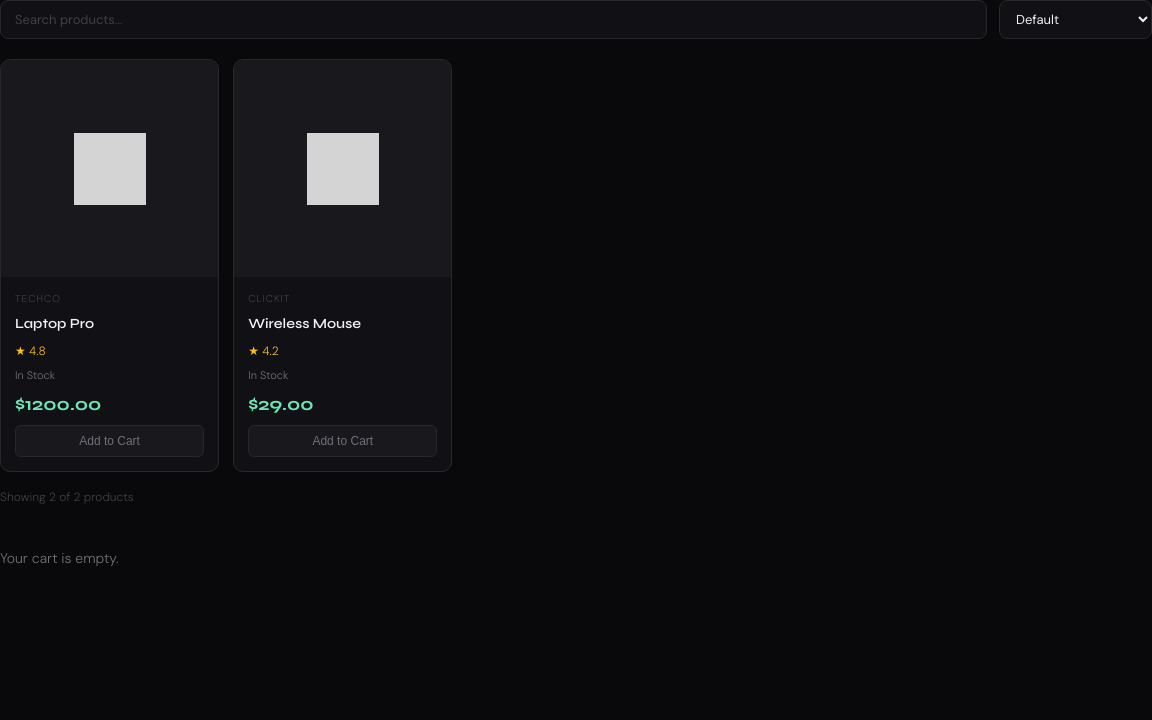
it: Full Shopping Flow — Product → Cart Integration › adding a product shows it in CartSummary
Step 1. Click the button with test id "add-to-cart-btn" below "1200.00" → [110, 441], box [15,425,204,457]
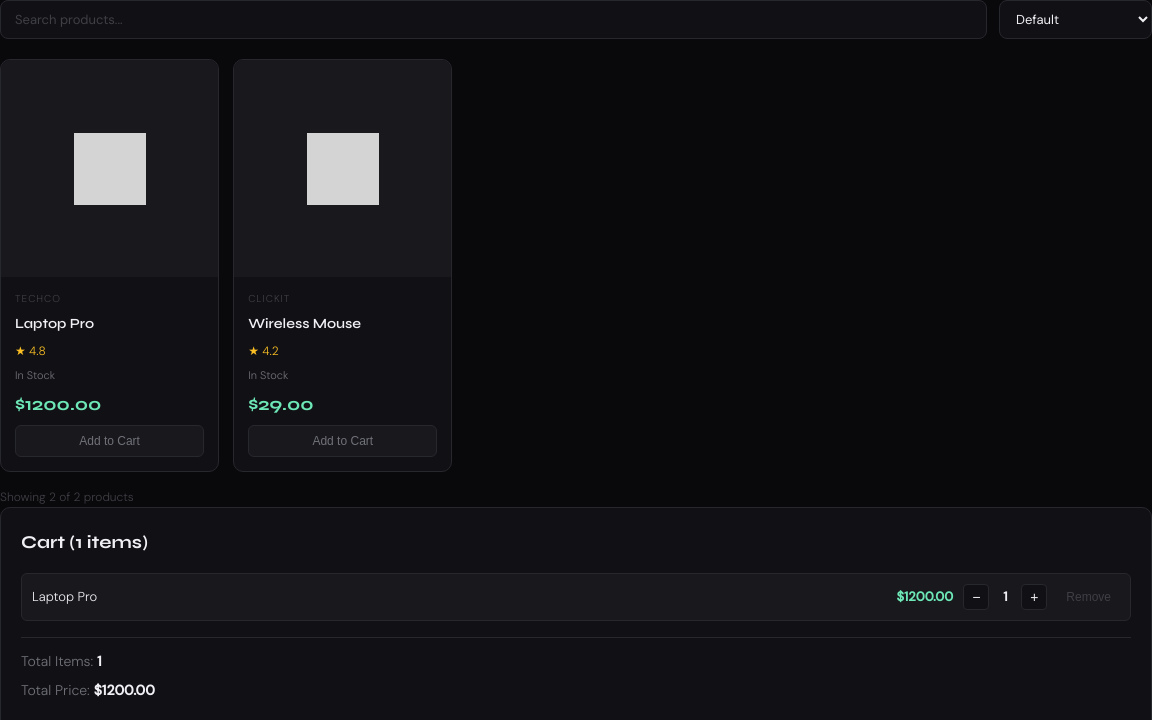
expect the text with test id "item-title-1" reads "Laptop Pro": met, box [32,588,97,605]
